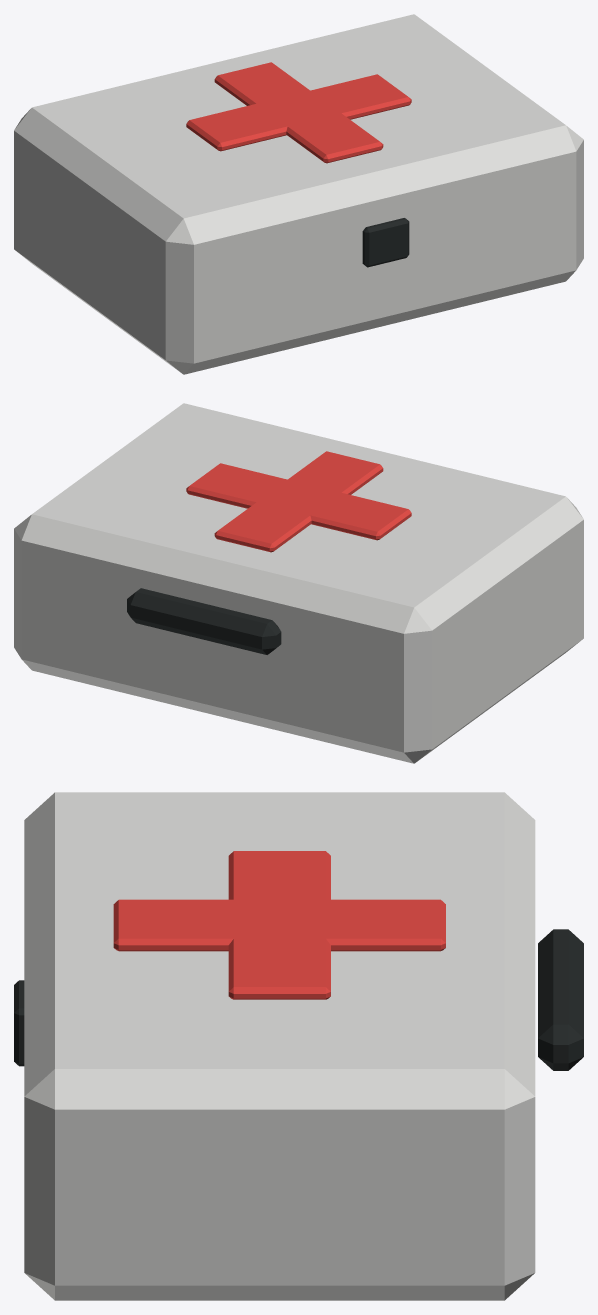
The model's file is item_medkit.glb.
The picture shows the model from 3 angles, top to bottom: view 1: azimuth 30°, elevation 25°; view 2: azimuth 150°, elevation 25°; view 3: azimuth 270°, elevation 25°; orthographic projection. The views are drawn at different scales.
Visible parts, largest first — view 1: item_medkit; view 2: item_medkit; view 3: item_medkit.
Part boxes in pixels (x1,y1,x2,y2): item_medkit: [14, 14, 583, 374]; item_medkit: [14, 403, 583, 763]; item_medkit: [14, 792, 583, 1300].
Bounding box in the file's own units: 0.28 × 0.105 × 0.223.
